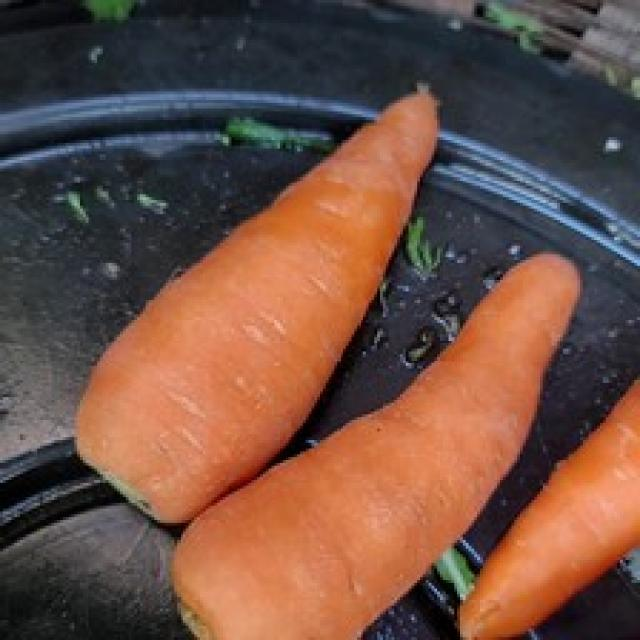carrot: (64, 82, 444, 524), (163, 243, 586, 640)
